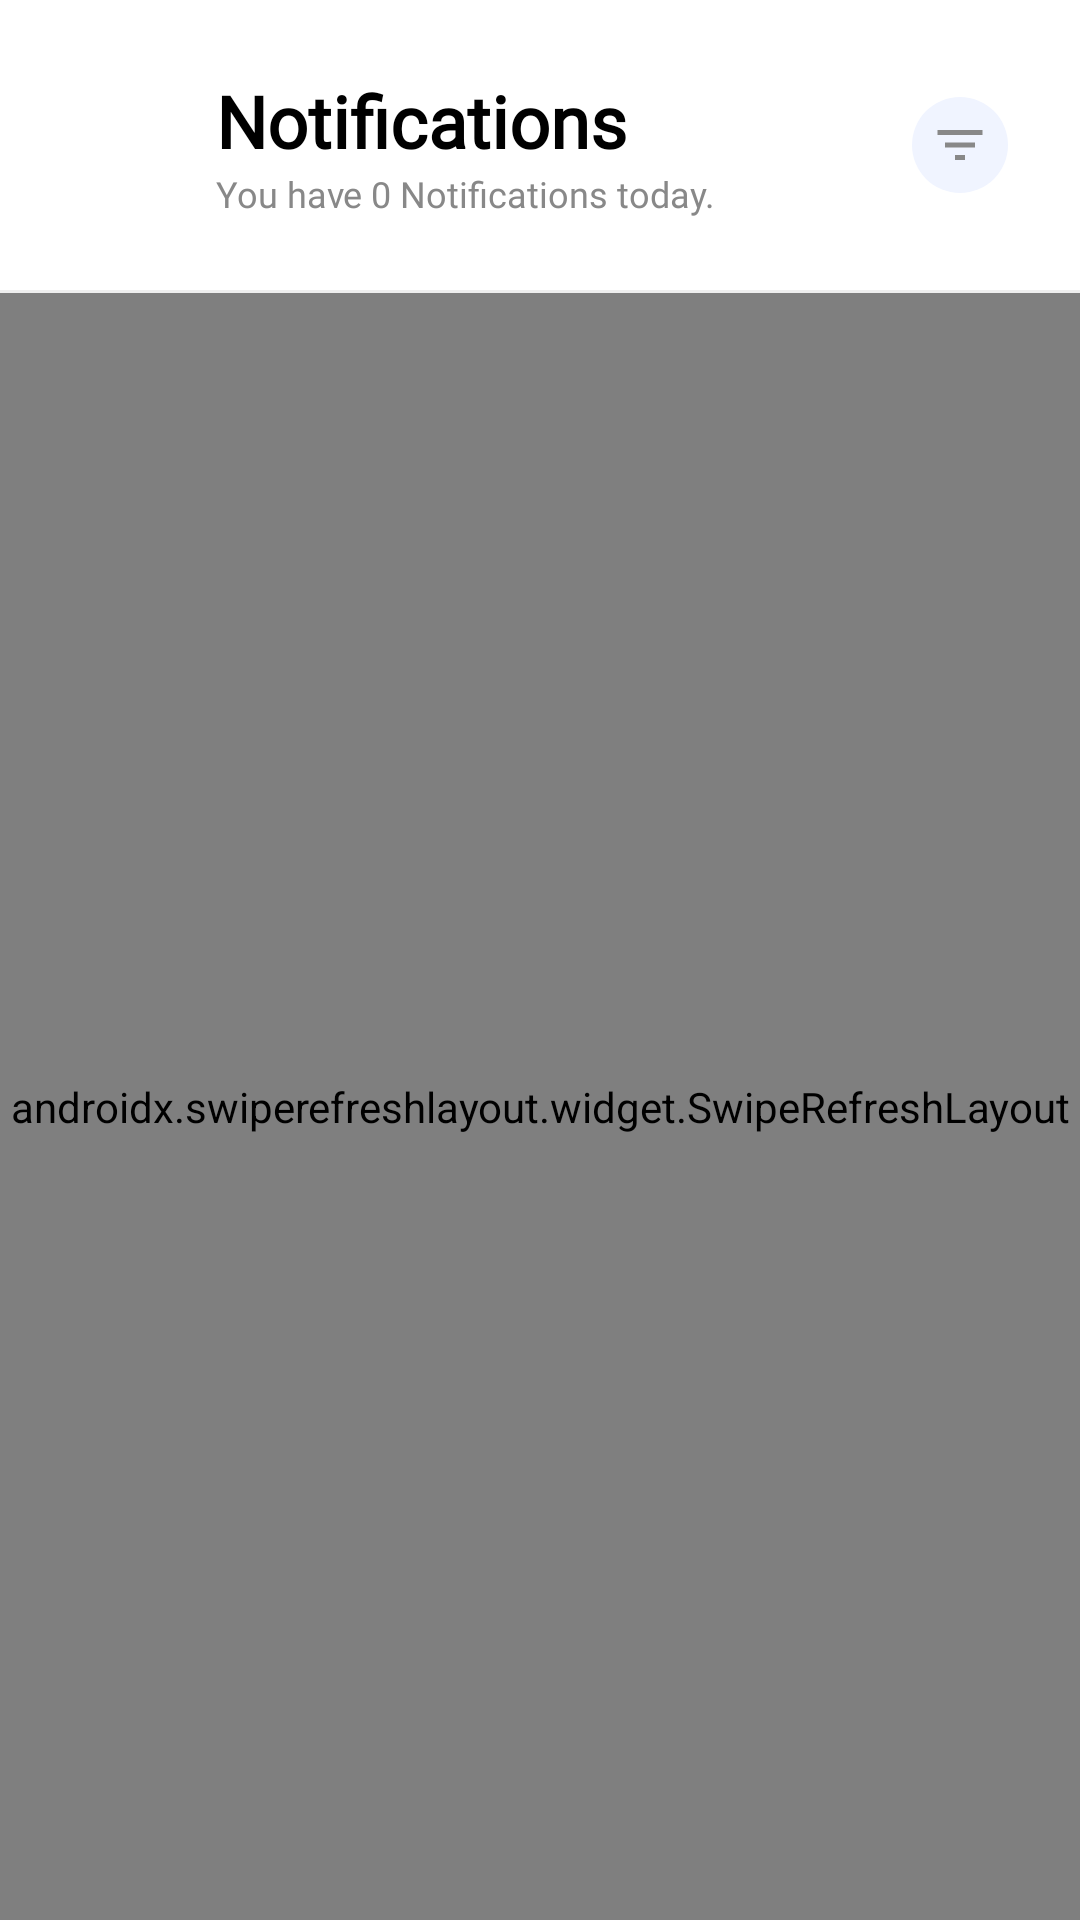

Named icons in this screenshot (1080 × 1920) and their bounding boxes, (x1, y1, x2, y2):
filter: (912, 97, 1008, 193)
